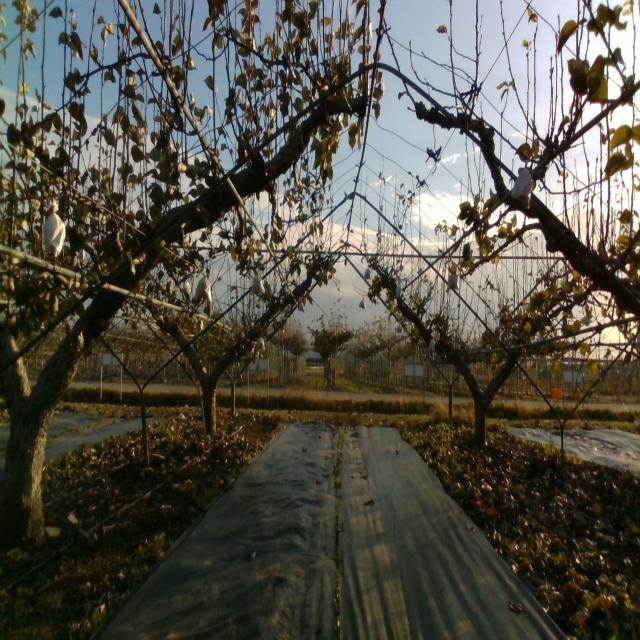pearbags: (45, 198, 67, 255), (509, 164, 534, 211), (192, 274, 211, 301), (250, 268, 266, 300), (445, 270, 460, 292)
